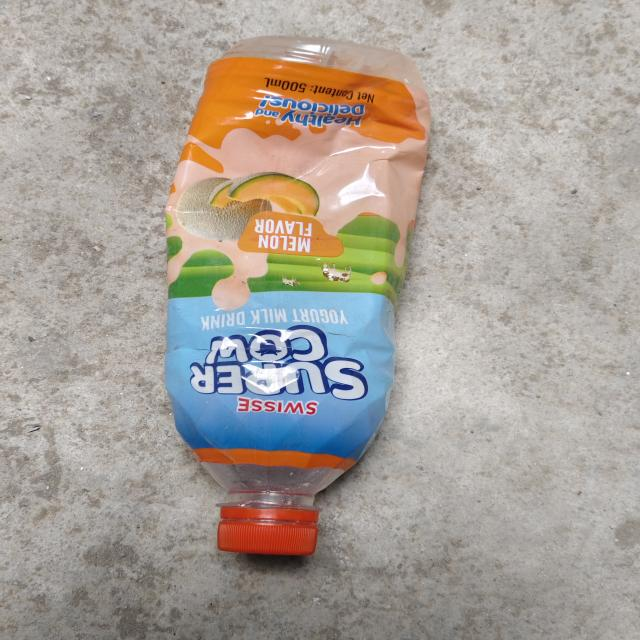Bottle: (163, 36, 432, 560)
